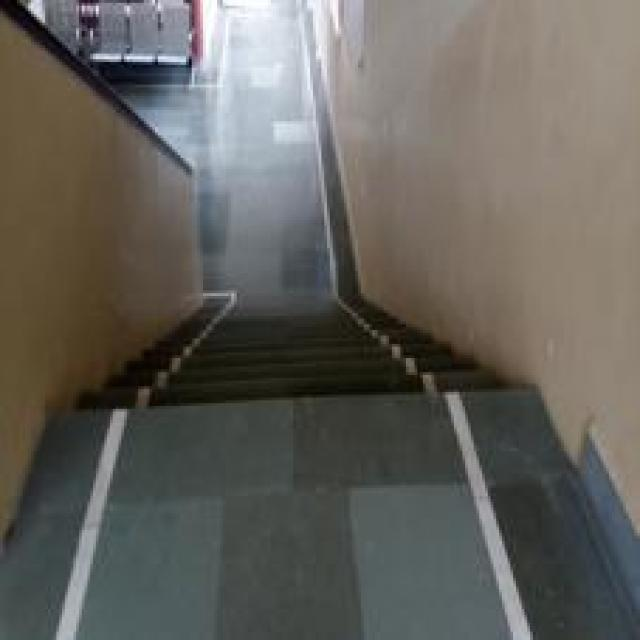downstair: (55, 303, 511, 435)
